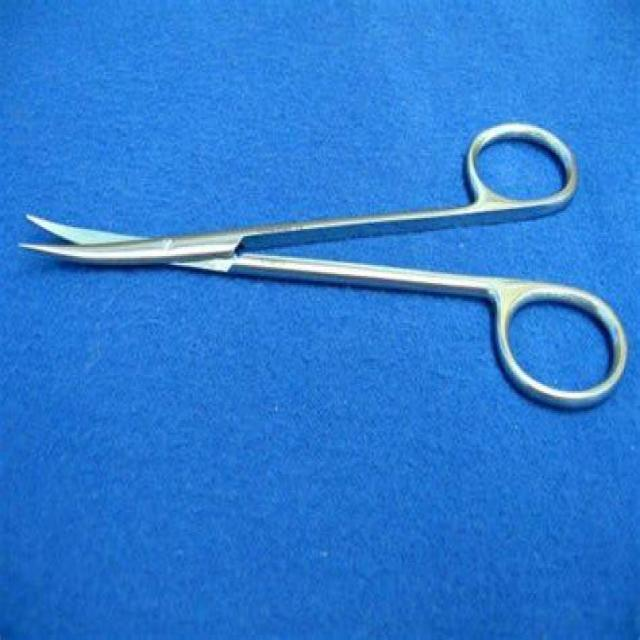Iris: (14, 113, 634, 414)
